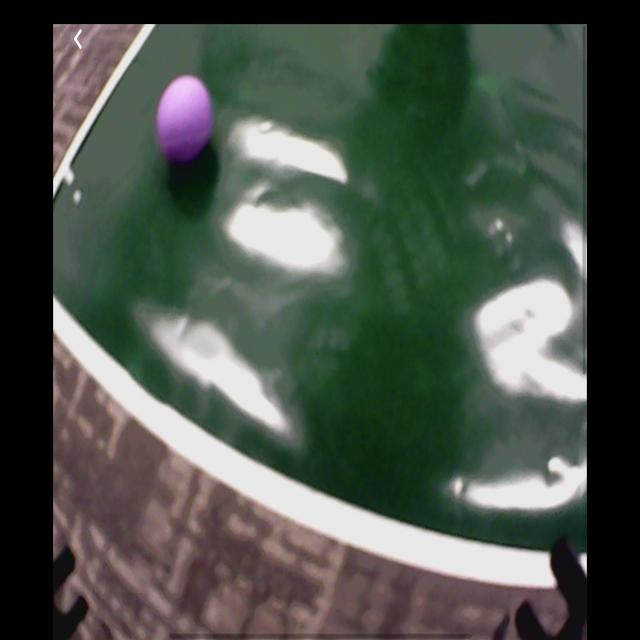ball: (157, 77, 211, 163)
